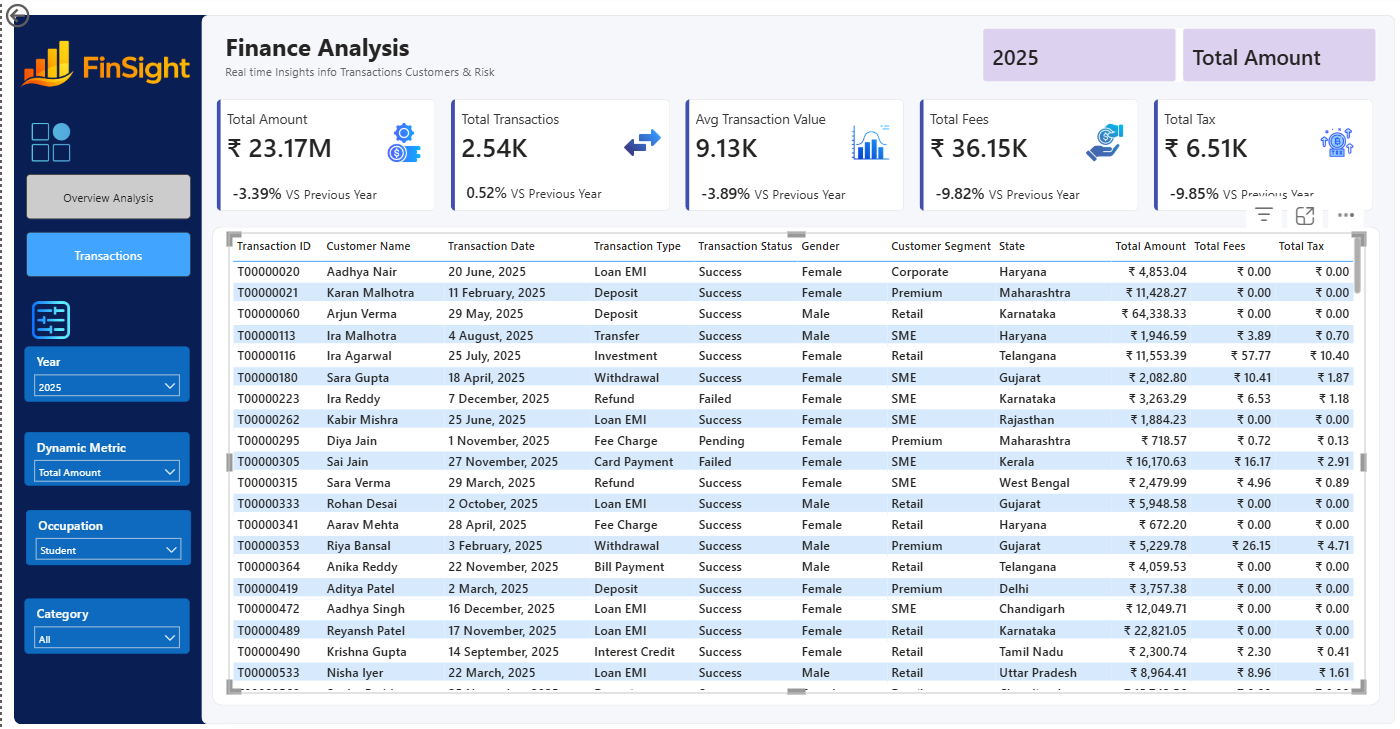

This screenshot's page, from the dashboard's own definition file:
{"tool":"powerbi","page":{"name":"Transactions","canvas":[1800,950],"ordinal":1},"visuals":[{"type":"shape","box":[15.5,19.9,279.1,908.1],"z":0},{"type":"shape","box":[254.7,19.9,1528.3,908.1],"z":1000},{"type":"image","box":[15.5,19.9,239.2,126.3],"z":2000},{"type":"cardVisual","fields":{"Data":["finance_transactions.Dashboard Title"]},"box":[269.2,19.2,408.1,102.6],"z":3000},{"type":"cardVisual","fields":{"Data":["finance_transactions.Total Amount","finance_transactions.Total Transactios","finance_transactions.Avg Transaction Value","finance_transactions.Total Fees","finance_transactions.Total Tax"]},"box":[269.2,121.8,1495.5,156],"z":4000},{"type":"image","box":[489.3,158.1,50,50],"z":5000},{"type":"image","box":[794.8,158.1,50,50],"z":6000},{"type":"image","box":[1087.5,158.1,50,50],"z":7000},{"type":"image","box":[1386.6,158.1,50,50],"z":8000},{"type":"image","box":[1683.5,158.1,50,50],"z":9000},{"type":"shape","box":[269.2,290.6,1495.5,613.2],"z":10000},{"type":"cardVisual","fields":{"Data":["finance_transactions.Selected Year","finance_transactions.Selected Dynamic Metric"]},"box":[1249.8,29.9,514.9,79],"z":11000},{"type":"tableEx","fields":{"Values":["finance_transactions.transaction_id","customers.customer_name","finance_transactions.transaction_date","finance_transactions.transaction_type","finance_transactions.transaction_status","customers.gender","customers.customer_segment","customers.state","finance_transactions.Total Amount","finance_transactions.Total Fees","finance_transactions.Total Tax"]},"box":[290.6,297,1454.9,589.7],"z":12000},{"type":"actionButton","box":[0,0,100,40],"z":13000},{"type":"slicer","fields":{"Values":["Caledar Table.Year"]},"box":[29.2,444.4,211.5,70.5],"z":14000},{"type":"slicer","fields":{"Values":["Dynamic Metric.Dynamic Metric"]},"box":[29.2,553.3,211.5,68.4],"z":15000},{"type":"slicer","fields":{"Values":["customers.occupation"]},"box":[31.3,653.8,211.5,70.5],"z":16000},{"type":"slicer","fields":{"Values":["finance_transactions.merchant_category"]},"box":[29.2,767,211.5,70.5],"z":17000},{"type":"pageNavigator","box":[29.9,222.2,211.5,132.5],"z":18000},{"type":"image","box":[32,158.1,59.8,49.1],"z":19000},{"type":"image","box":[32,382.4,59.8,55.5],"z":20000}]}

Visuals, with their boxes on the page's 1800x950 design canvas (x1, y1, x2, y2). These are canvas units, not pixel positions in the 1400x729 screenshot, which may show the page scaled, cropped or inside an application window:
shape: 16,20,295,928
shape: 255,20,1783,928
image: 16,20,255,146
cardVisual - finance_transactions.Dashboard Title: 269,19,677,122
cardVisual - finance_transactions.Total Amount x finance_transactions.Total Transactios: 269,122,1765,278
image: 489,158,539,208
image: 795,158,845,208
image: 1088,158,1138,208
image: 1387,158,1437,208
image: 1684,158,1734,208
shape: 269,291,1765,904
cardVisual - finance_transactions.Selected Year x finance_transactions.Selected Dynamic Metric: 1250,30,1765,109
tableEx - finance_transactions.transaction_id x customers.customer_name: 291,297,1746,887
actionButton: 0,0,100,40
slicer - Caledar Table.Year: 29,444,241,515
slicer - Dynamic Metric.Dynamic Metric: 29,553,241,622
slicer - customers.occupation: 31,654,243,724
slicer - finance_transactions.merchant_category: 29,767,241,838
pageNavigator: 30,222,241,355
image: 32,158,92,207
image: 32,382,92,438
